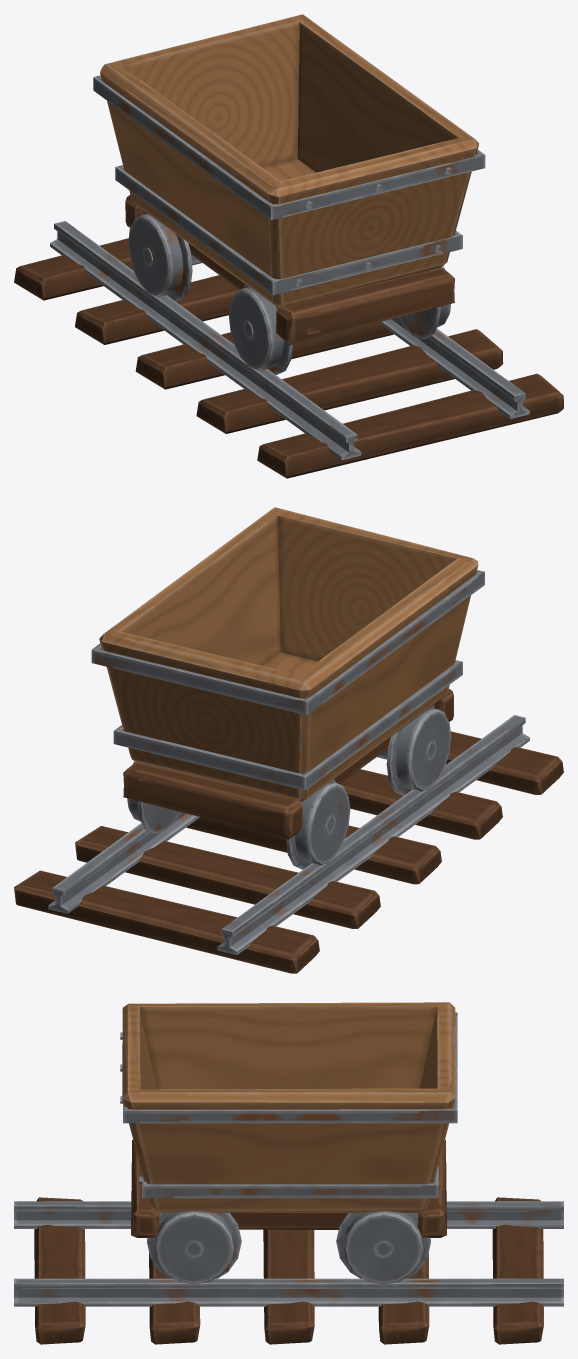
File: mine_cart.glb
The picture shows the model from 3 angles, top to bottom: view 1: azimuth 30°, elevation 25°; view 2: azimuth 150°, elevation 25°; view 3: azimuth 270°, elevation 25°; orthographic projection. The views are drawn at different scales.
Parts seen in each view (by area): view 1: tub, rail_left, sleeper_4, sleeper_3, bumper_front, band_high_band, band_low_band, sleeper_1, sleeper_2, wheel_back_left, rail_right, wheel_front_left (+3 smaller); view 2: tub, rail_left, sleeper_0, sleeper_1, bumper_back, band_high_band, band_low_band, sleeper_3, sleeper_2, wheel_front_left, rail_right, wheel_back_left (+2 smaller); view 3: tub, rail_right, rail_left, band_high_band, wheel_front_right, wheel_back_right, sleeper_4, sleeper_0, sleeper_2, band_low_band, sleeper_1, sleeper_3 (+3 smaller).
Boxes of the visible parts, x1,y1,x2,y2 form: tub: (100, 14, 479, 307); rail_left: (50, 221, 361, 459); sleeper_4: (257, 373, 563, 478); sleeper_3: (196, 329, 503, 433); bumper_front: (276, 268, 454, 345); band_high_band: (93, 75, 485, 220); band_low_band: (115, 165, 462, 295); sleeper_1: (75, 275, 239, 344); sleeper_2: (135, 322, 393, 389); wheel_back_left: (128, 212, 192, 301); rail_right: (378, 317, 529, 418); wheel_front_left: (229, 284, 292, 374); tub: (99, 507, 478, 802); rail_left: (217, 715, 529, 954); sleeper_0: (14, 870, 319, 973); sleeper_1: (75, 826, 380, 928); bumper_back: (123, 762, 302, 839); band_high_band: (91, 570, 484, 715); band_low_band: (113, 660, 462, 790); sleeper_3: (339, 769, 502, 839); sleeper_2: (186, 817, 441, 884); wheel_front_left: (386, 705, 451, 795); rail_right: (48, 812, 199, 913); wheel_back_left: (286, 779, 350, 869); tub: (122, 1002, 455, 1212); rail_right: (14, 1278, 563, 1306); rail_left: (14, 1201, 563, 1228); band_high_band: (120, 1012, 457, 1123); wheel_front_right: (147, 1211, 241, 1284); wheel_back_right: (336, 1210, 430, 1284); sleeper_4: (34, 1197, 85, 1344); sleeper_0: (492, 1197, 543, 1344); sleeper_2: (263, 1229, 314, 1344); band_low_band: (139, 1165, 438, 1198); sleeper_1: (378, 1252, 429, 1344); sleeper_3: (149, 1252, 200, 1344).
Size of the model in its own units: 1.01 by 0.8485 by 1.8.
Materials: 3 (3 with a texture image).
